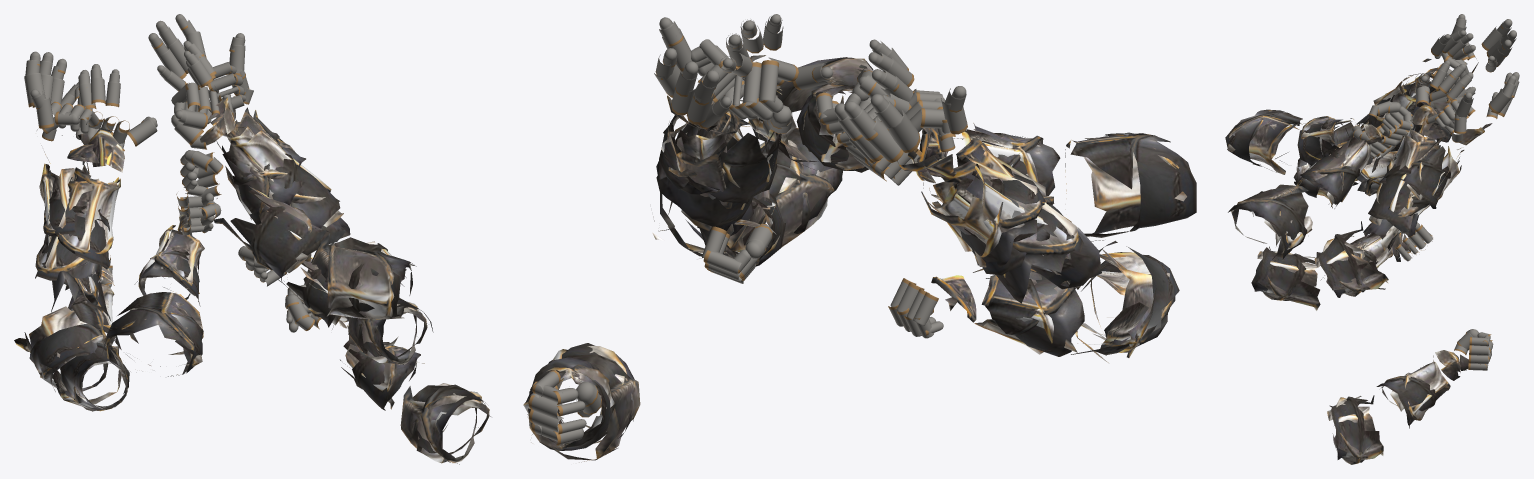
The model's file is gauntlets_t_silver.glb.
3 views of the same model, side by side, from view 1: azimuth 30°, elevation 25°; view 2: azimuth 150°, elevation 25°; view 3: azimuth 270°, elevation 25° (orthographic). The views are drawn at different scales.
Parts seen in each view (by area): view 1: spell_attack, arms_2h, spell_raise, arms_staff, arms_1h; view 2: spell_attack, spell_raise, arms_2h, arms_1h, arms_staff; view 3: arms_2h, spell_attack, spell_raise, arms_staff, arms_1h.
Boxes of the visible parts, x1,y1,x2,y2 form: spell_attack: (14, 41, 406, 391); arms_2h: (101, 150, 416, 376); spell_raise: (24, 14, 350, 315); arms_staff: (285, 283, 490, 464); arms_1h: (52, 244, 433, 411); spell_attack: (652, 14, 1179, 355); spell_raise: (654, 17, 1101, 289); arms_2h: (748, 57, 1196, 237); arms_1h: (697, 127, 1175, 362); arms_staff: (523, 343, 640, 462); arms_2h: (1225, 101, 1413, 260); spell_attack: (1314, 30, 1475, 297); spell_raise: (1356, 14, 1519, 252); arms_staff: (1327, 329, 1493, 464); arms_1h: (1251, 150, 1452, 310).
Size of the model in its own units: 1.35 by 1.19 by 0.9797.
Materials: 1 (1 with a texture image).
